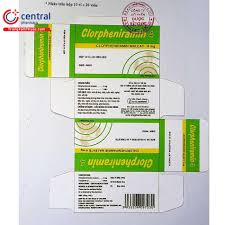Clorpheniramin: (79, 26, 146, 40), (89, 159, 152, 168), (39, 33, 47, 74), (189, 127, 197, 164)
